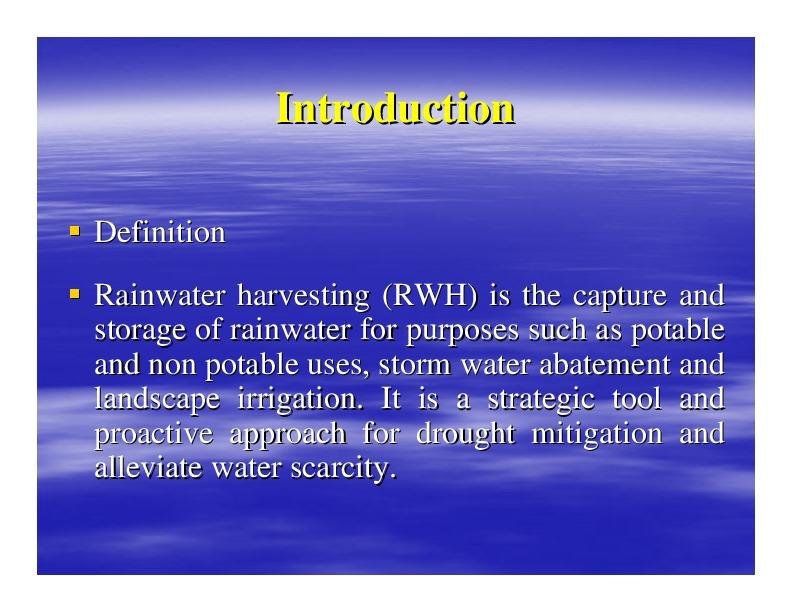paragraph: (54, 192, 738, 483)
title: (267, 71, 538, 149)
